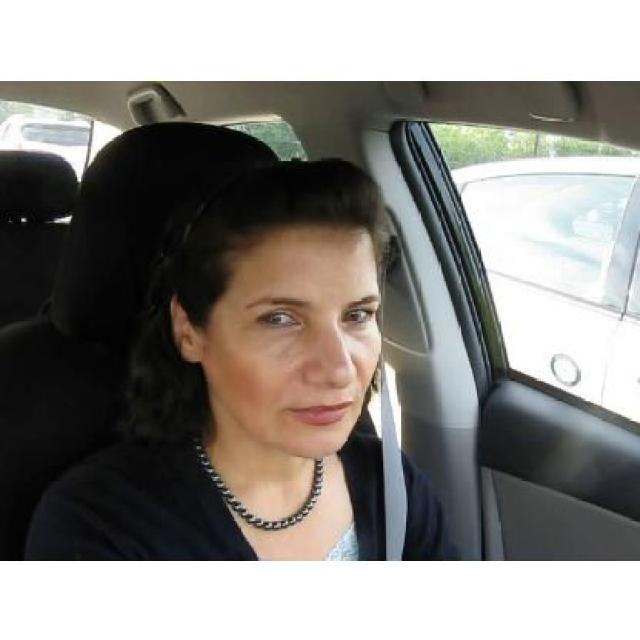attentif: (174, 155, 380, 457)
